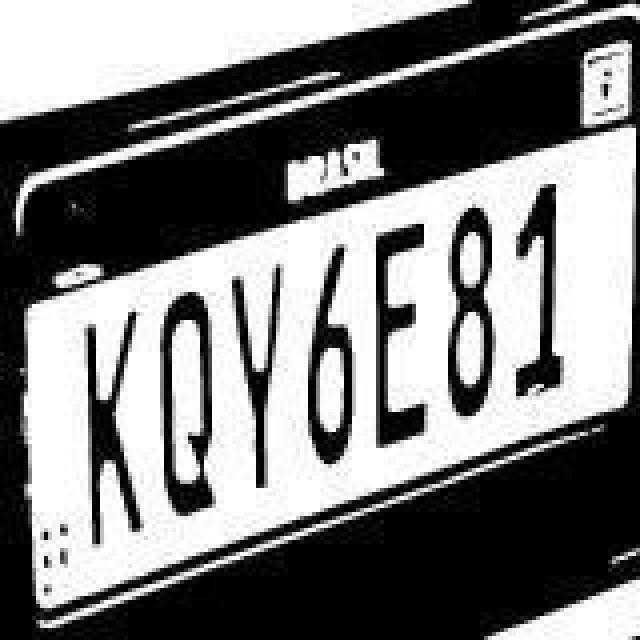1: (510, 168, 578, 408)
6: (300, 226, 364, 470)
8: (436, 186, 508, 438)
E: (360, 208, 432, 456)
K: (76, 302, 148, 554)
Q: (156, 288, 228, 536)
Y: (232, 240, 296, 496)
